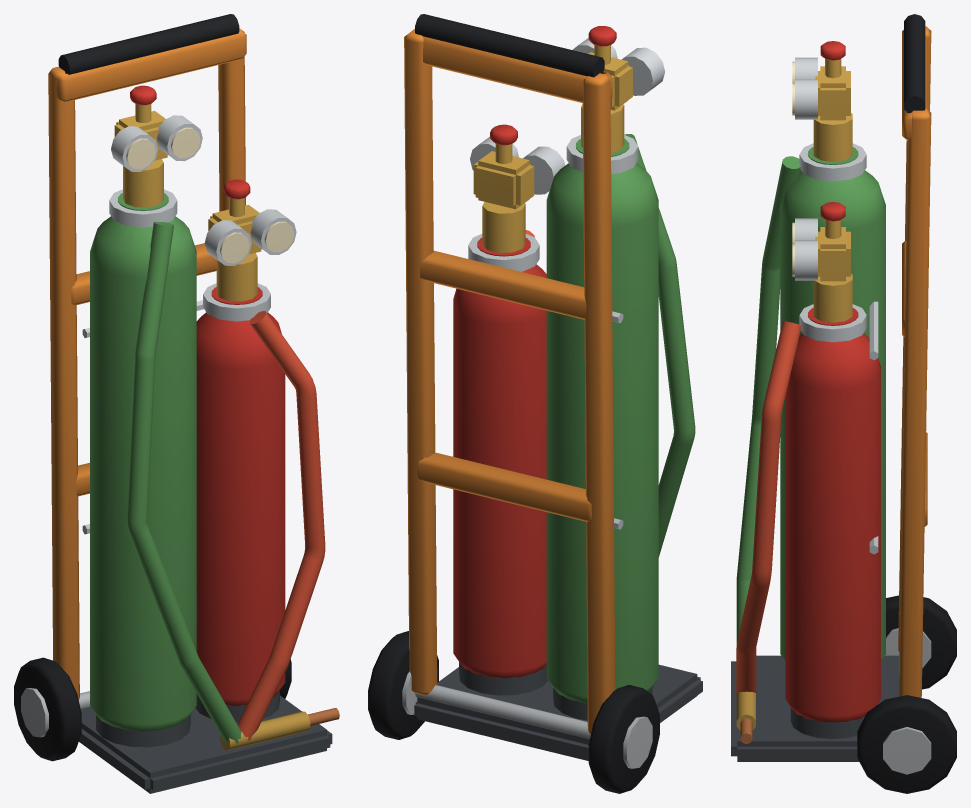
Rendered from SM_OxyAcetylene_Cart_01.glb.
3 renders of one model, left to right at view 1: azimuth 30°, elevation 25°; view 2: azimuth 150°, elevation 25°; view 3: azimuth 270°, elevation 25°, orthographic. The views are drawn at different scales.
Parts seen in each view (by area): view 1: SM_OxyAcetylene_Cart_01; view 2: SM_OxyAcetylene_Cart_01; view 3: SM_OxyAcetylene_Cart_01.
Part boxes in pixels (box(x1,y1,x2,y2)): SM_OxyAcetylene_Cart_01: box(14, 14, 339, 793); SM_OxyAcetylene_Cart_01: box(368, 14, 702, 793); SM_OxyAcetylene_Cart_01: box(731, 14, 956, 793).
Size of the model in its own units: 0.536 by 1.48 by 0.4425.
1 material, 1 textured.
